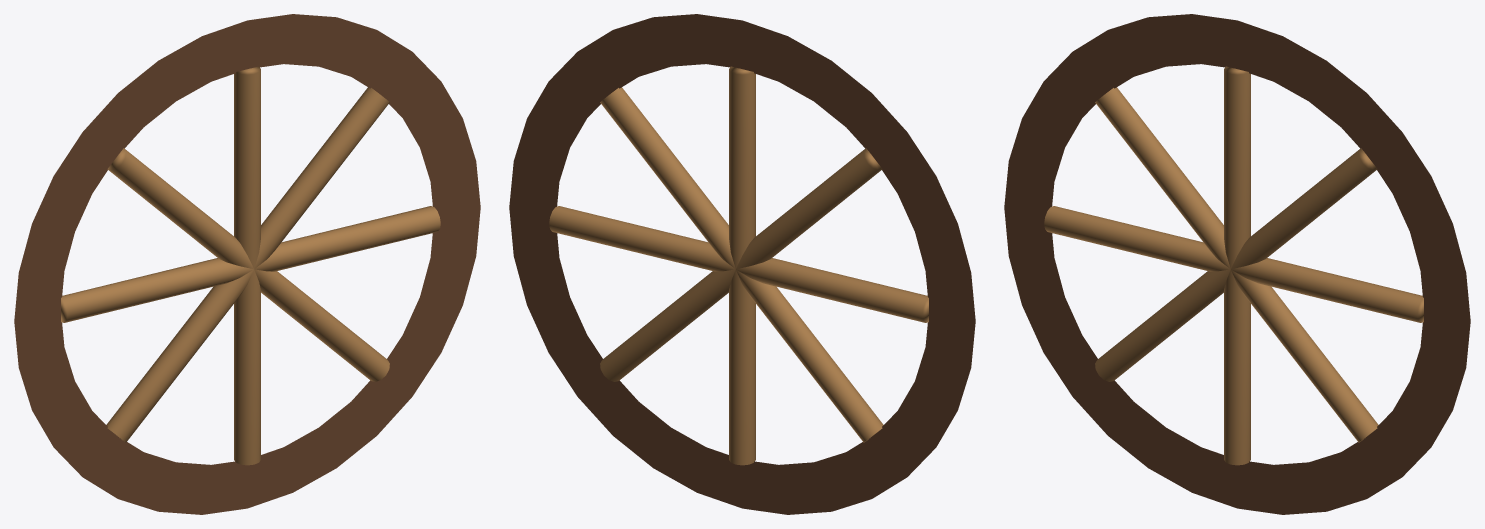
File: mill_wheel.glb
3 renders of one model, left to right at view 1: azimuth 30°, elevation 25°; view 2: azimuth 150°, elevation 25°; view 3: azimuth 330°, elevation 25°, orthographic.
Visible parts, largest first — view 1: outer_ring, spoke (×8); view 2: outer_ring, spoke (×8); view 3: outer_ring, spoke (×8).
Boxes of the visible parts, x1,y1,x2,y2 form: outer_ring: (14,14,480,514); spoke (×8): (61,66,440,465); outer_ring: (509,14,975,514); spoke (×8): (549,66,928,465); outer_ring: (1004,14,1470,514); spoke (×8): (1044,66,1423,465).
Bounding box in the file's own units: 2 × 2 × 0.1.
